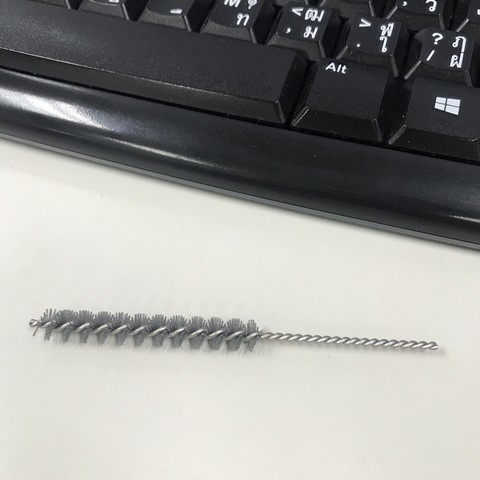Twist Brush-A: (26, 302, 442, 363)
